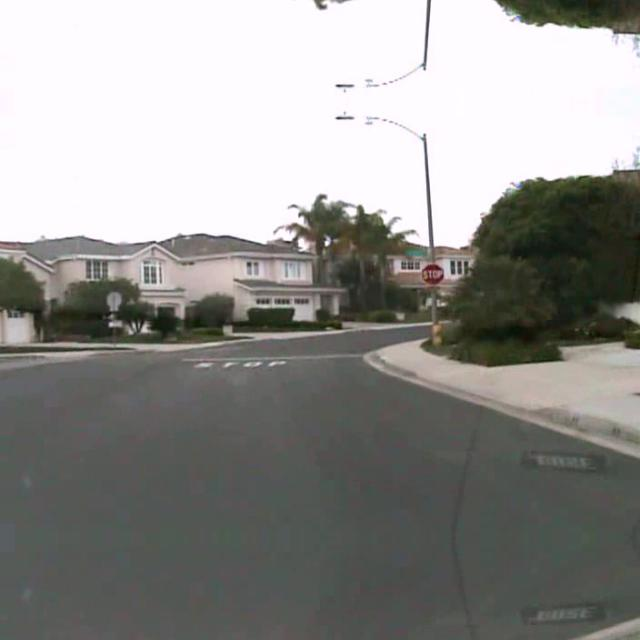stop: (421, 262, 444, 284)
